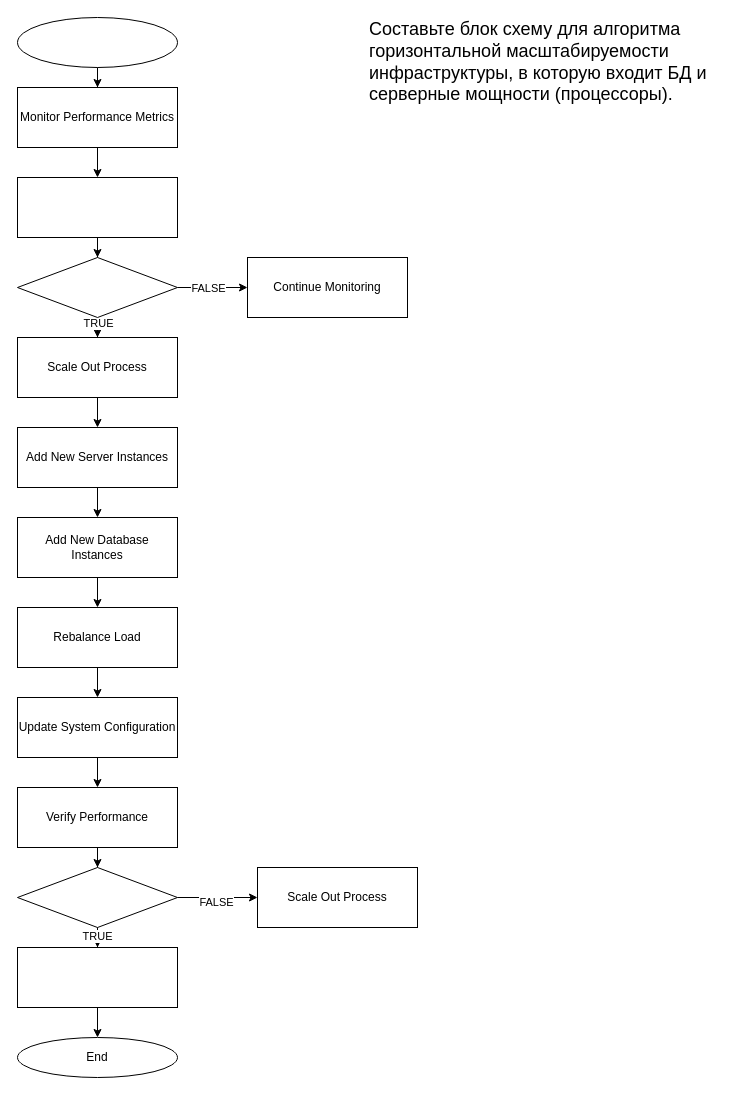
This 755x1095 diagram has some shape labels left out. The shapes that lost their labels are listed below. From the top down, each one's centre as x and y in pixels, then its label:
At (x=97, y=42): "Start".
At (x=97, y=207): "Evaluate Thresholds".
At (x=97, y=287): "Threshold Exceeded?".
At (x=97, y=897): "Performance Acceptable?".
At (x=97, y=977): "Repeat Monitoring".
